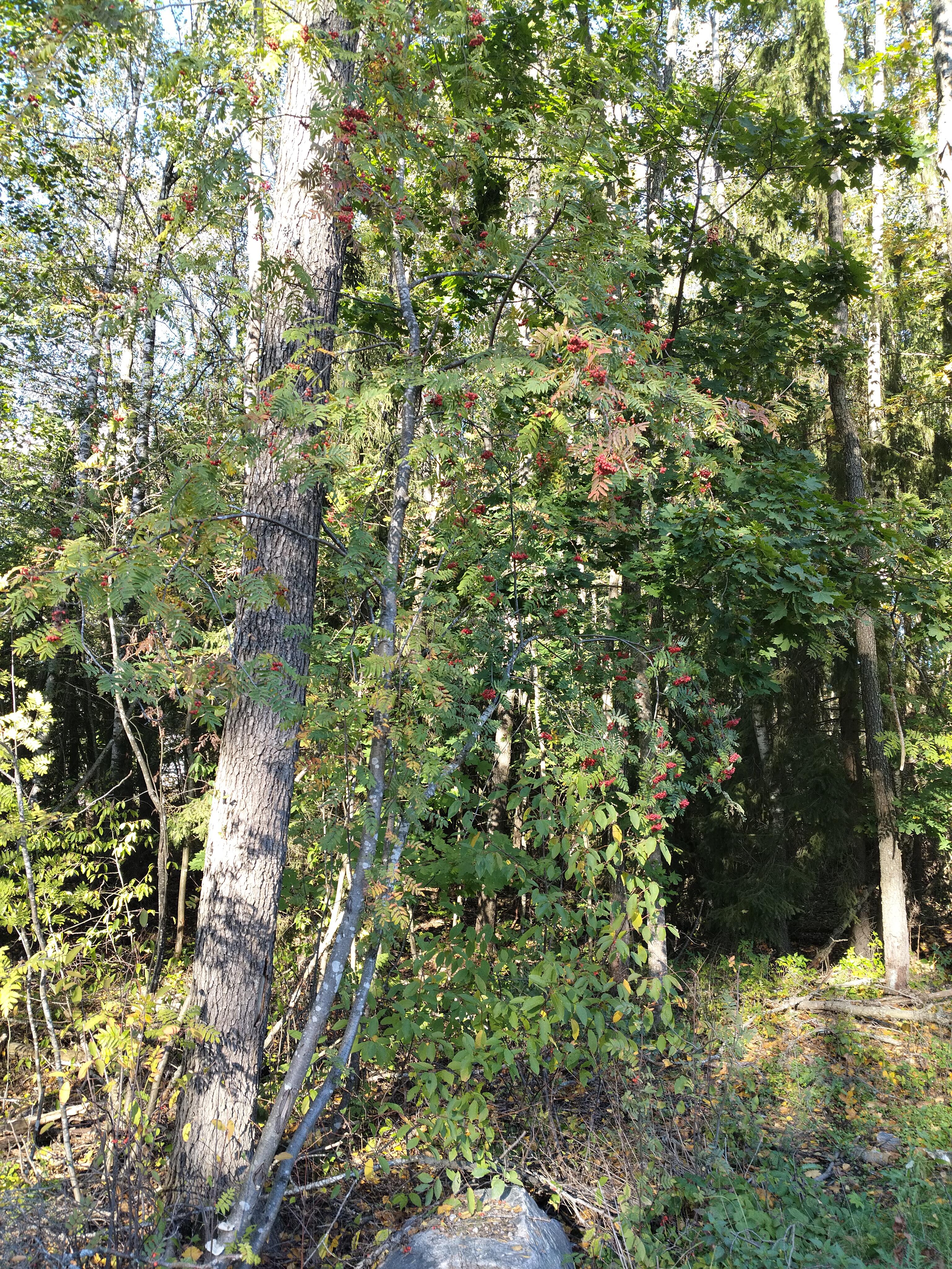Rowan: (327, 1, 721, 1202)
